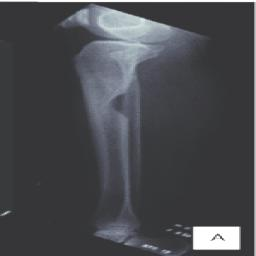cancer: (103, 88, 137, 124)
